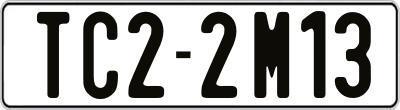1: (300, 8, 328, 100)
2: (201, 12, 240, 104), (126, 10, 163, 96)
3: (334, 11, 376, 103)
C: (82, 11, 118, 100)
M: (252, 11, 292, 97)
T: (34, 10, 67, 97)
